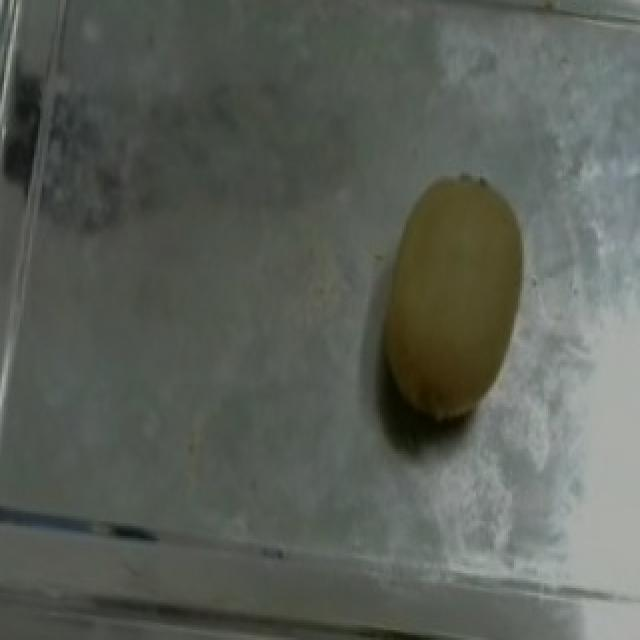Fruit: (350, 166, 544, 442)
